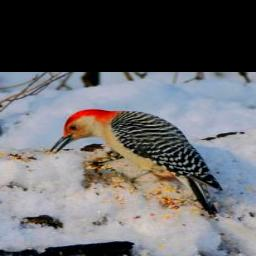Woodpecker: (48, 108, 227, 221)
